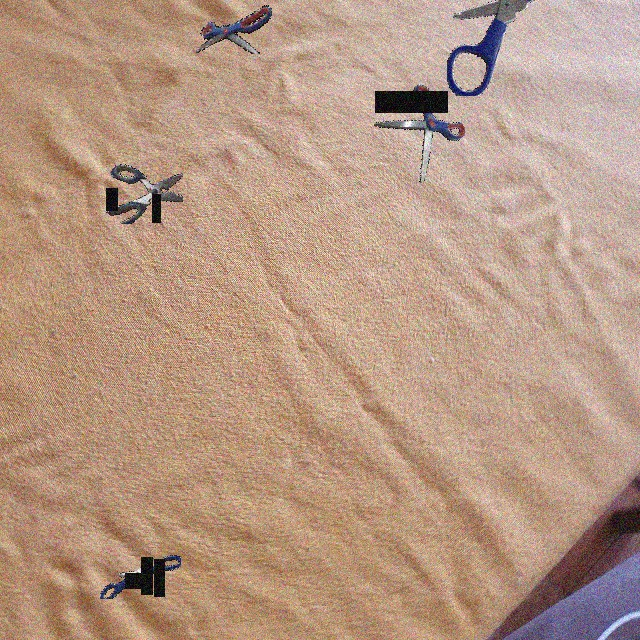scissors: (447, 0, 573, 96), (374, 84, 465, 183), (106, 164, 183, 224), (196, 5, 272, 54), (100, 555, 181, 599)
